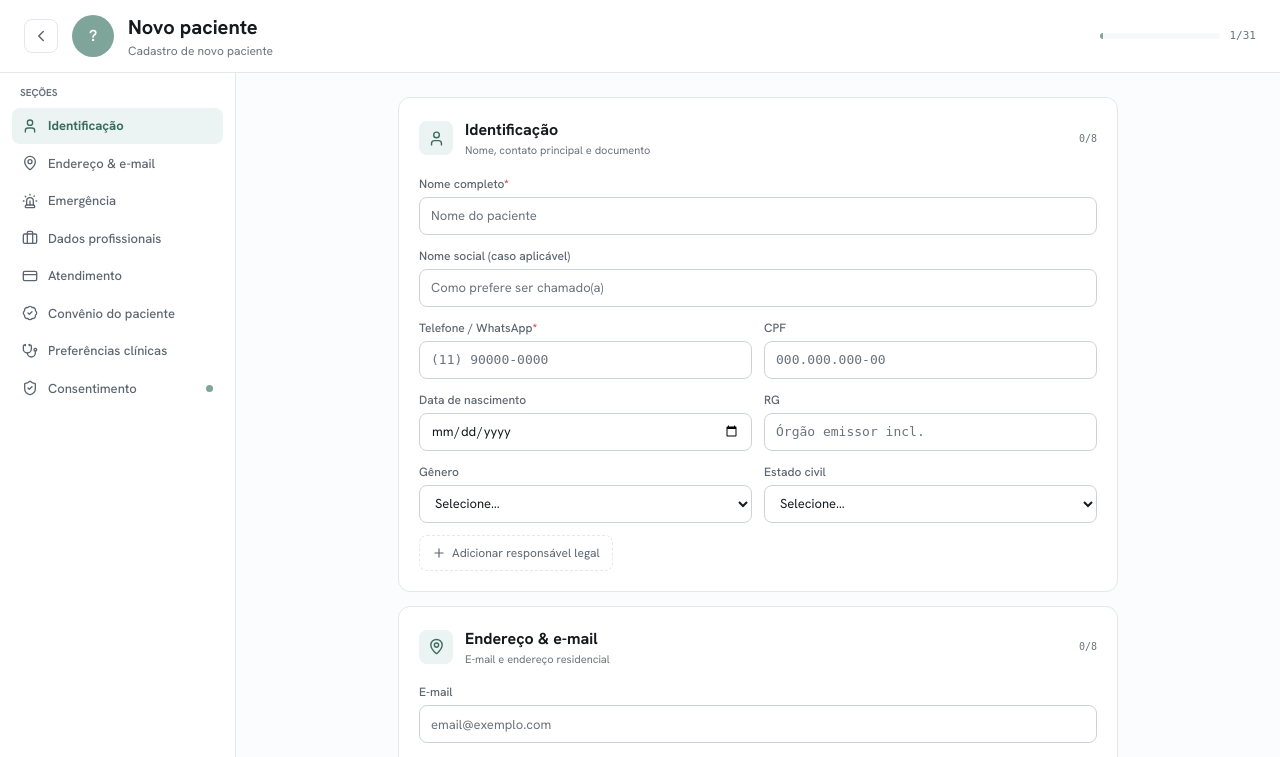
Test case: PatientForm — novo › avisa duplicado consultando o servidor quando o CPF fica completo
The width and height of the screenshot is (1280, 757).
Type "11111111111" into the field with placeholder "000.000.000-00" at (930,360), box [764,340,1097,378]
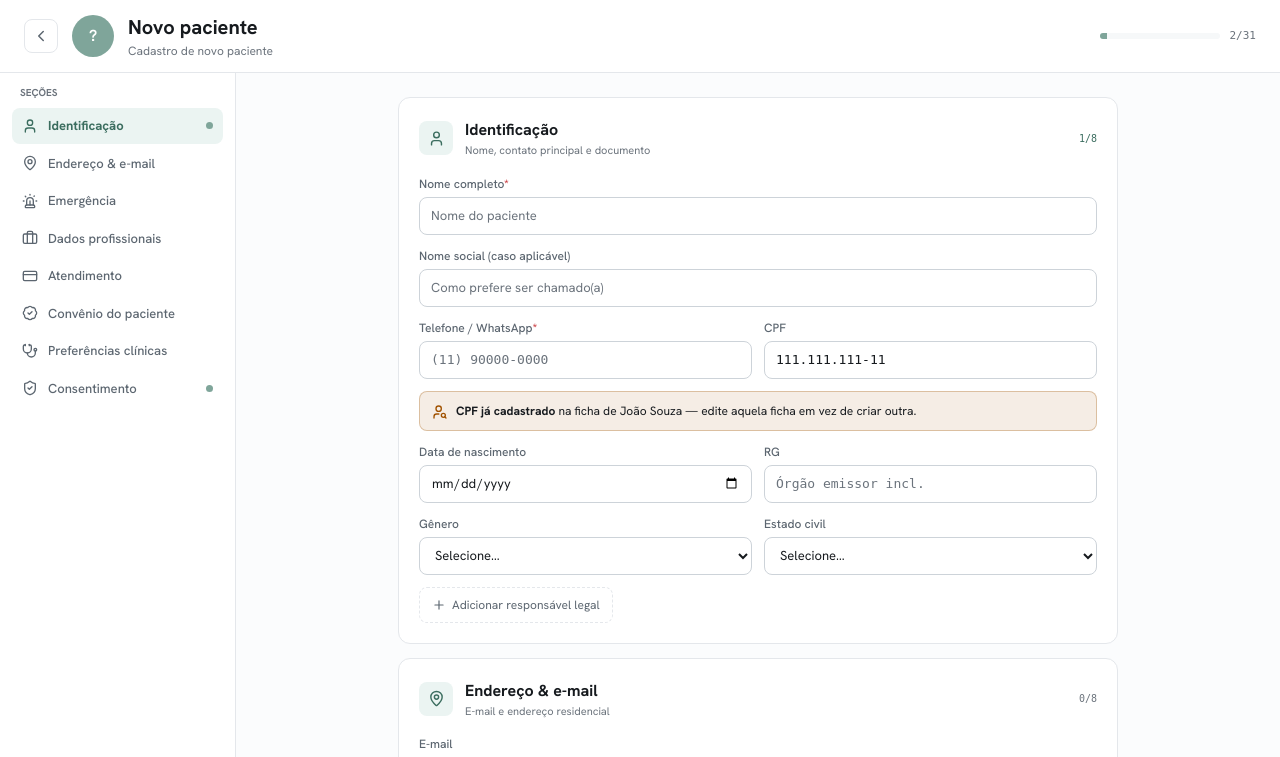
Check: the text "CPF já cadastrado" is shown, box [456,402,555,418]
Check: the text "João Souza" is shown, box [558,402,916,418]
